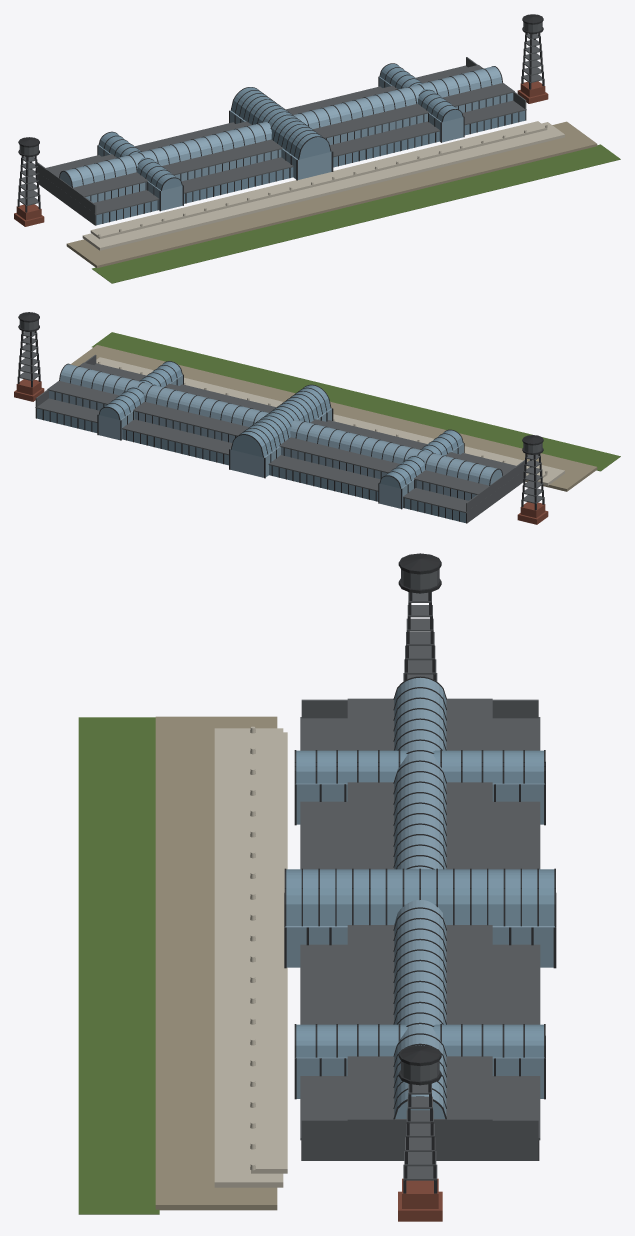
File: crystal_palace_sydenham.glb
The picture shows the model from 3 angles, top to bottom: view 1: azimuth 30°, elevation 25°; view 2: azimuth 150°, elevation 25°; view 3: azimuth 270°, elevation 25°; orthographic projection. The views are drawn at different scales.
Visible parts, largest first — view 1: crystal_palace_sydenham; view 2: crystal_palace_sydenham; view 3: crystal_palace_sydenham.
Part boxes in pixels (x1=…): crystal_palace_sydenham: x1=14, y1=14, x2=620, y2=283; crystal_palace_sydenham: x1=14, y1=312, x2=620, y2=524; crystal_palace_sydenham: x1=78, y1=553, x2=556, y2=1221.
Size of the model in its own units: 596 by 88 by 236.
